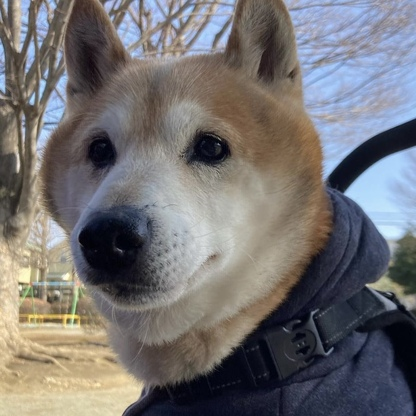shiba: (30, 1, 393, 416)
